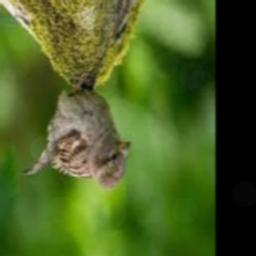Sparrow: (24, 73, 131, 192)
